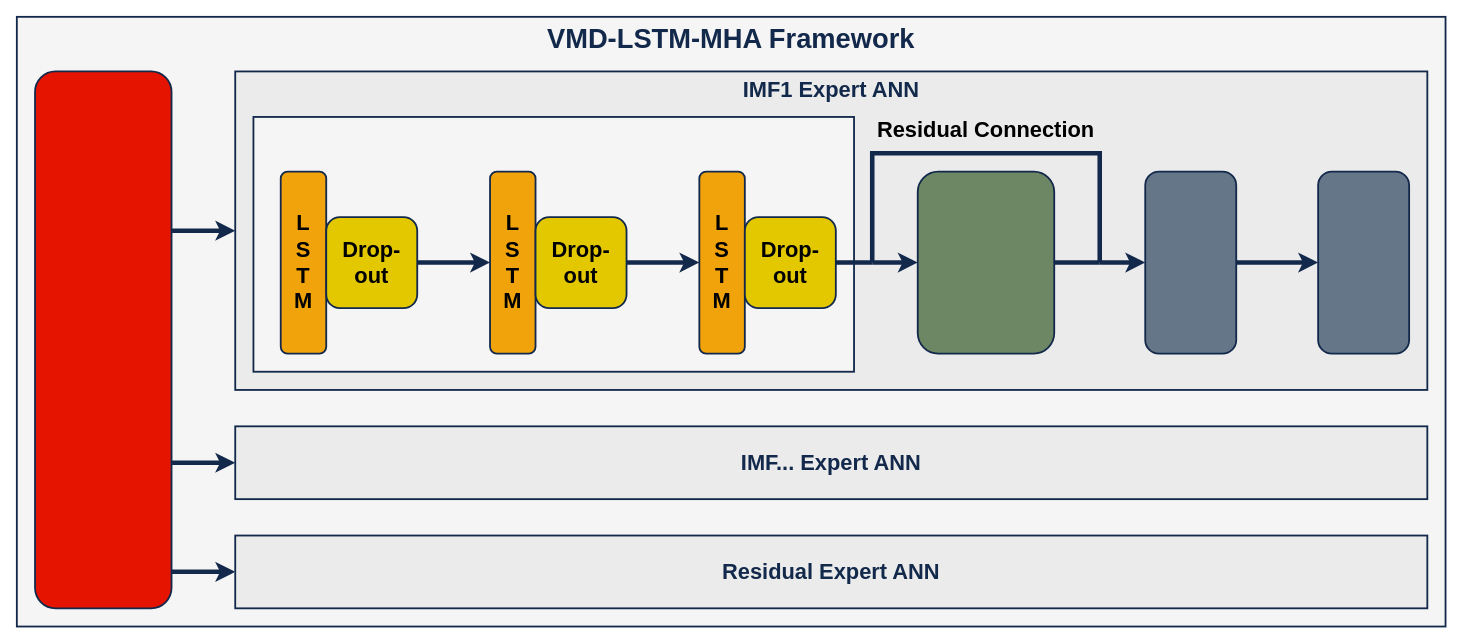
This 1461x642 diagram has some shape labels left out. The box of each missing label's shape, as (x1, y1, x2, y2) in pixels:
Layer- norm: (1144, 170, 1237, 354)
Linear: (1317, 170, 1410, 354)
MHA: (916, 170, 1055, 354)
Stacked LSTM: (252, 116, 854, 372)
VMD: (34, 70, 172, 609)
